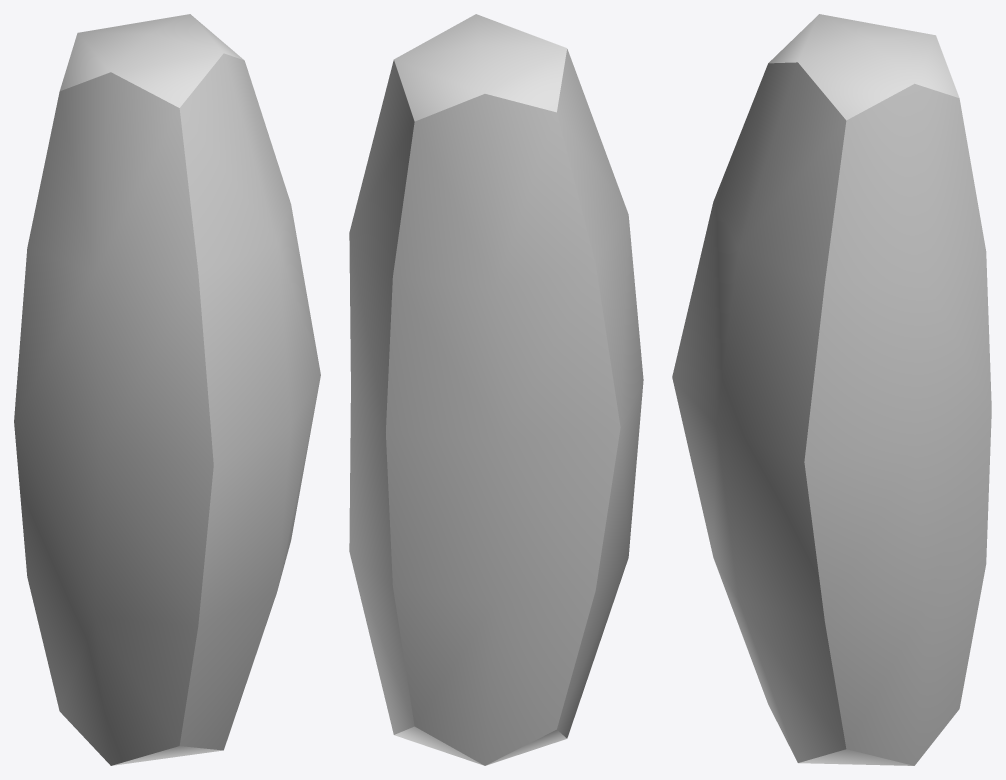
Rendered from SM_Magnesium_01.fbx.
3 renders of one model, left to right at view 1: azimuth 30°, elevation 25°; view 2: azimuth 150°, elevation 25°; view 3: azimuth 270°, elevation 25°, orthographic.
Visible parts, largest first — view 1: SM_Magnesium_01; view 2: SM_Magnesium_01; view 3: SM_Magnesium_01.
Part boxes in pixels (x1,y1,x2,y2): SM_Magnesium_01: (14, 14, 320, 765); SM_Magnesium_01: (349, 14, 643, 765); SM_Magnesium_01: (672, 14, 991, 765).
Size of the model in its own units: 18.47 by 44.65 by 18.3.
